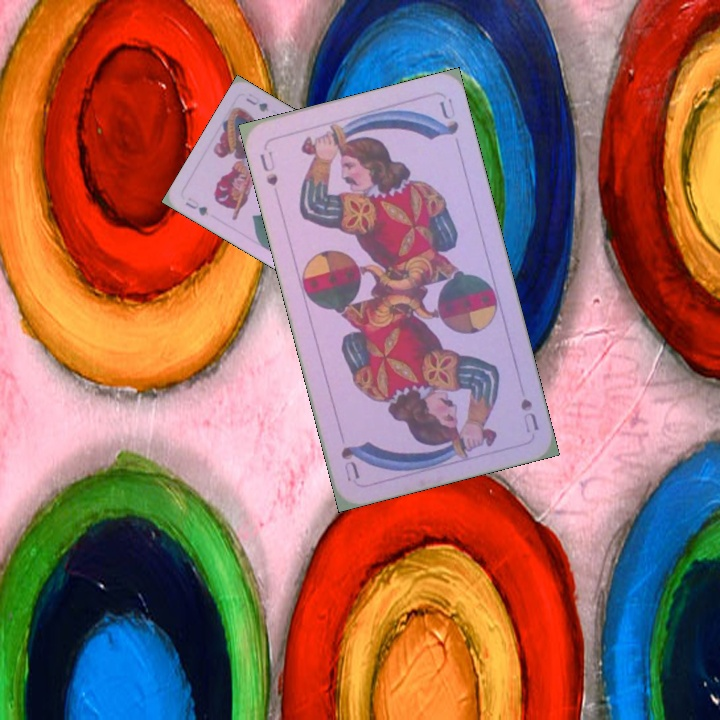GU: (181, 193, 211, 219)
SU: (516, 394, 542, 436), (255, 147, 280, 188)
